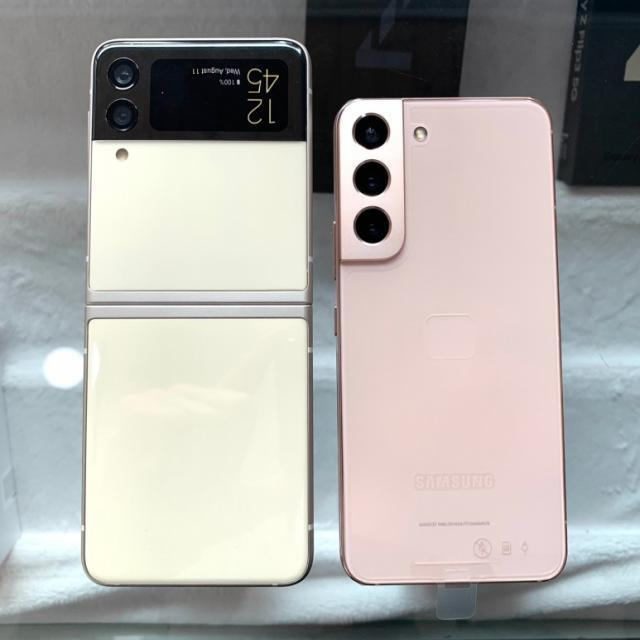phone: (83, 39, 313, 588), (336, 98, 566, 584)
